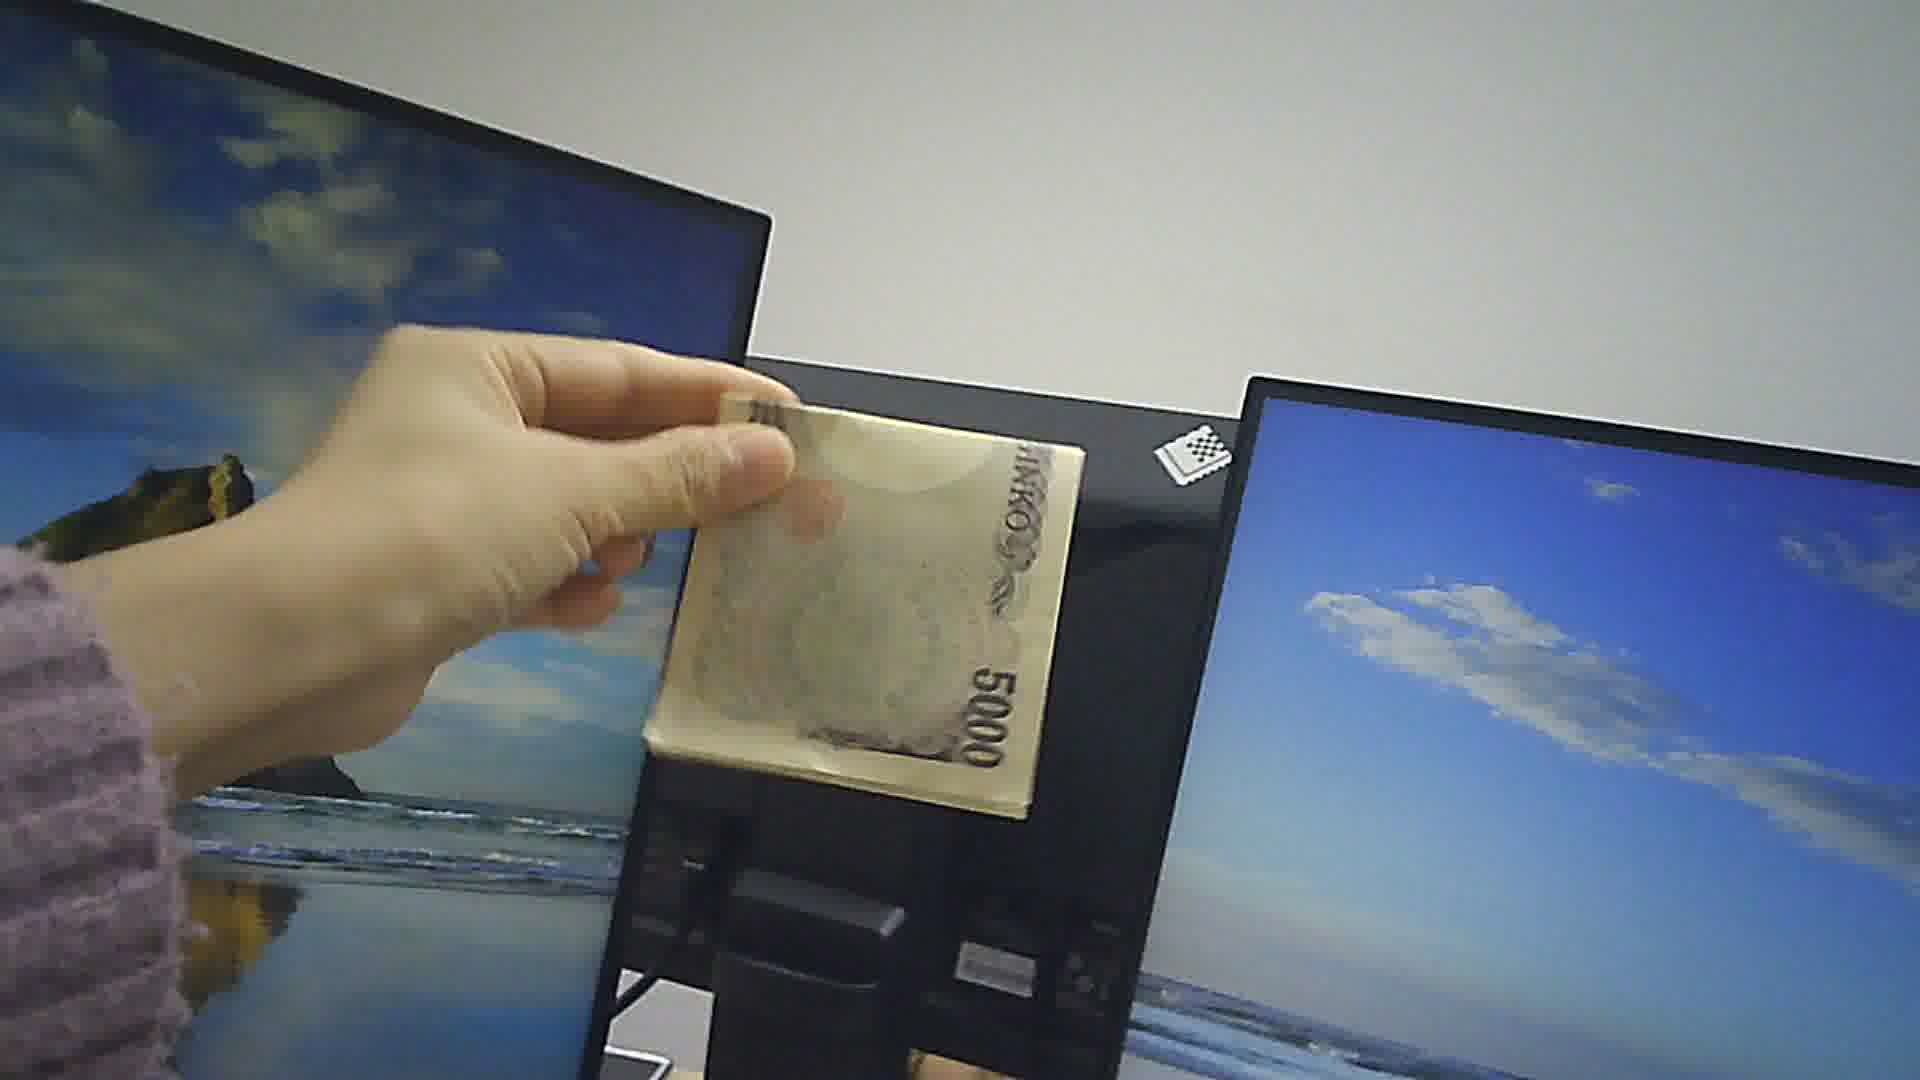5,000 Yen: (640, 373, 1073, 812)
